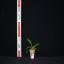leaf: (27, 38, 33, 49), (32, 43, 40, 49), (26, 49, 32, 54), (26, 47, 32, 51), (33, 48, 39, 51)
